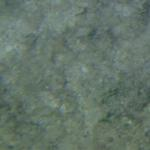dead: (8, 1, 143, 144)
